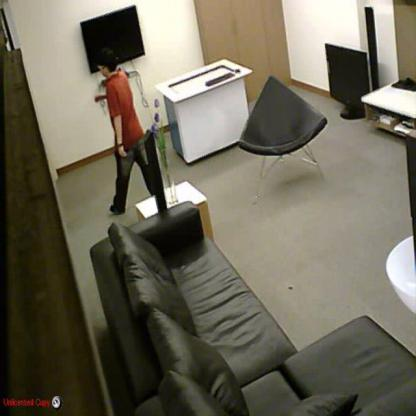Person: (97, 50, 153, 217)
